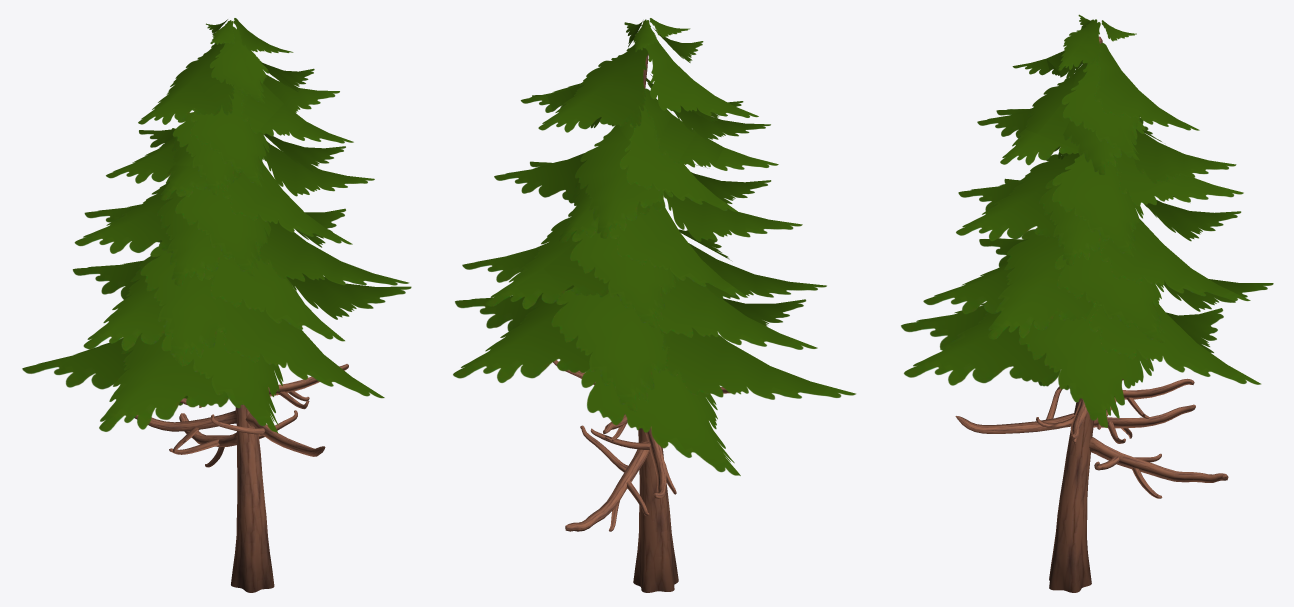
Rendered from pine-a.glb.
3 renders of one model, left to right at view 1: azimuth 30°, elevation 25°; view 2: azimuth 150°, elevation 25°; view 3: azimuth 270°, elevation 25°, orthographic. The views are drawn at different scales.
Parts seen in each view (by area): view 1: Pine_1; view 2: Pine_1; view 3: Pine_1.
Boxes of the visible parts, x1,y1,x2,y2 form: Pine_1: (22, 18, 411, 592); Pine_1: (453, 18, 855, 592); Pine_1: (901, 14, 1273, 592).
Bounding box in the file's own units: 4.94 × 7.32 × 4.54.
2 materials, 2 textured.
